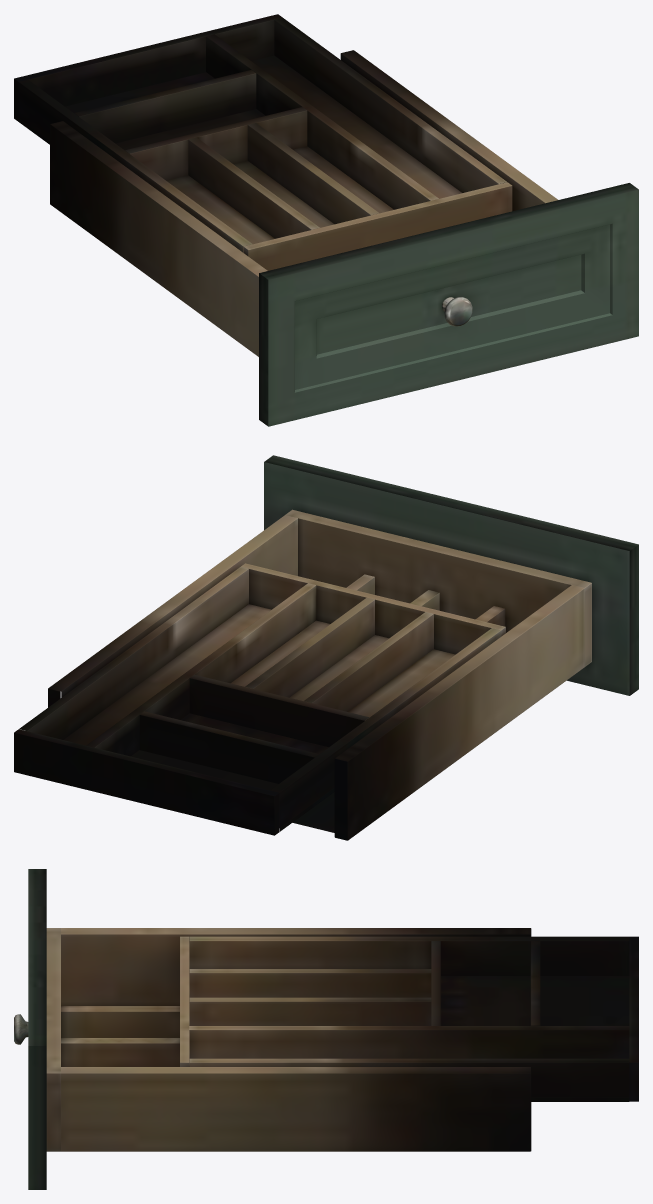
Rendered from Drawer_Top_Left.gltf.
The picture shows the model from 3 angles, top to bottom: view 1: azimuth 30°, elevation 25°; view 2: azimuth 150°, elevation 25°; view 3: azimuth 270°, elevation 25°; orthographic projection. The views are drawn at different scales.
Visible parts, largest first — view 1: Drawer_Top_Left; view 2: Drawer_Top_Left; view 3: Drawer_Top_Left.
Boxes of the visible parts, x1,y1,x2,y2 form: Drawer_Top_Left: [14, 14, 638, 426]; Drawer_Top_Left: [14, 455, 638, 840]; Drawer_Top_Left: [14, 869, 638, 1189].
Bounding box in the file's own units: 443 × 168 × 661.
3 materials, 3 textured.
